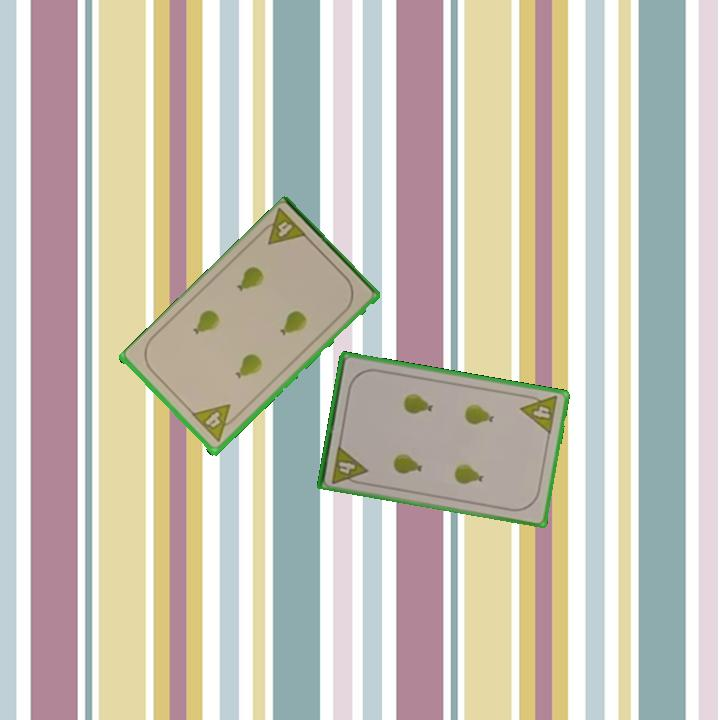4p: (255, 205, 310, 249), (189, 401, 242, 445), (517, 390, 561, 437), (328, 442, 370, 487)
